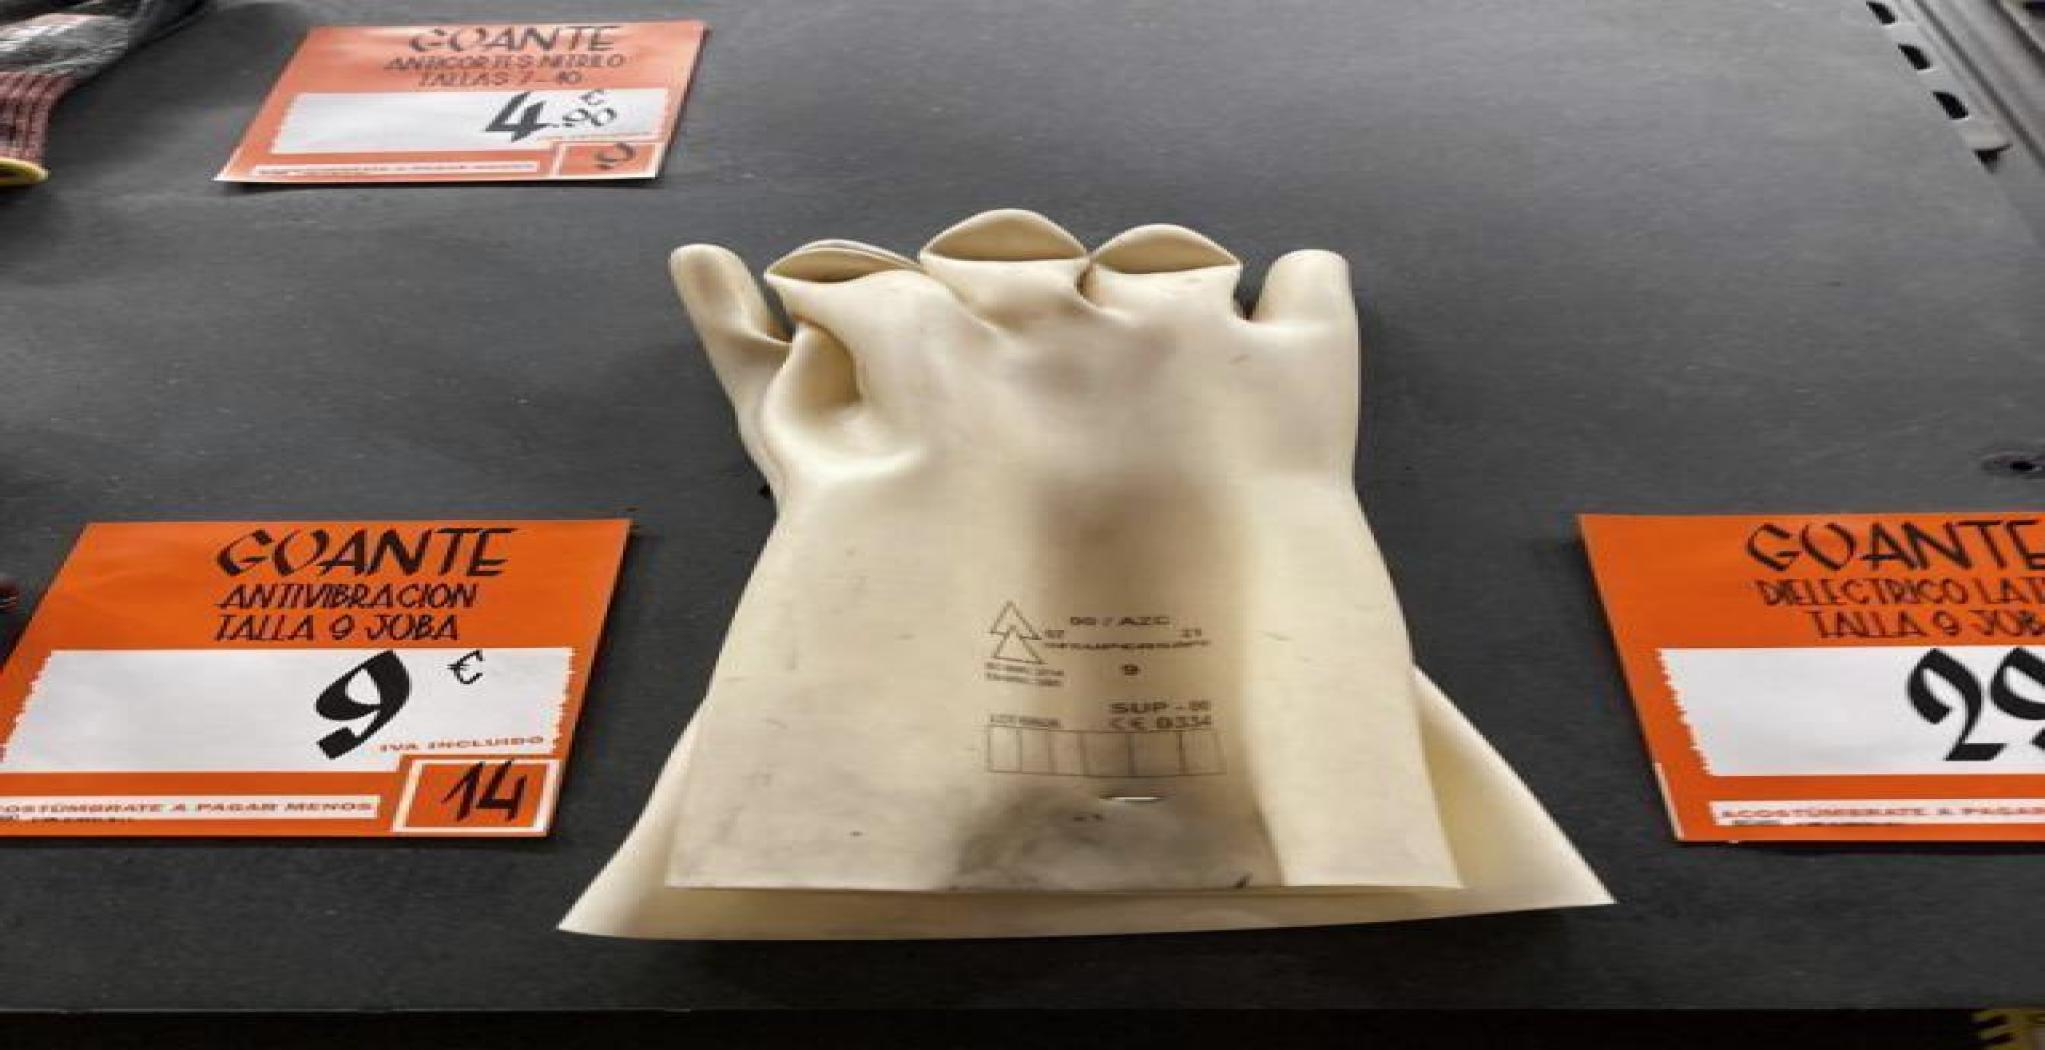gloved: (690, 205, 1603, 939)
